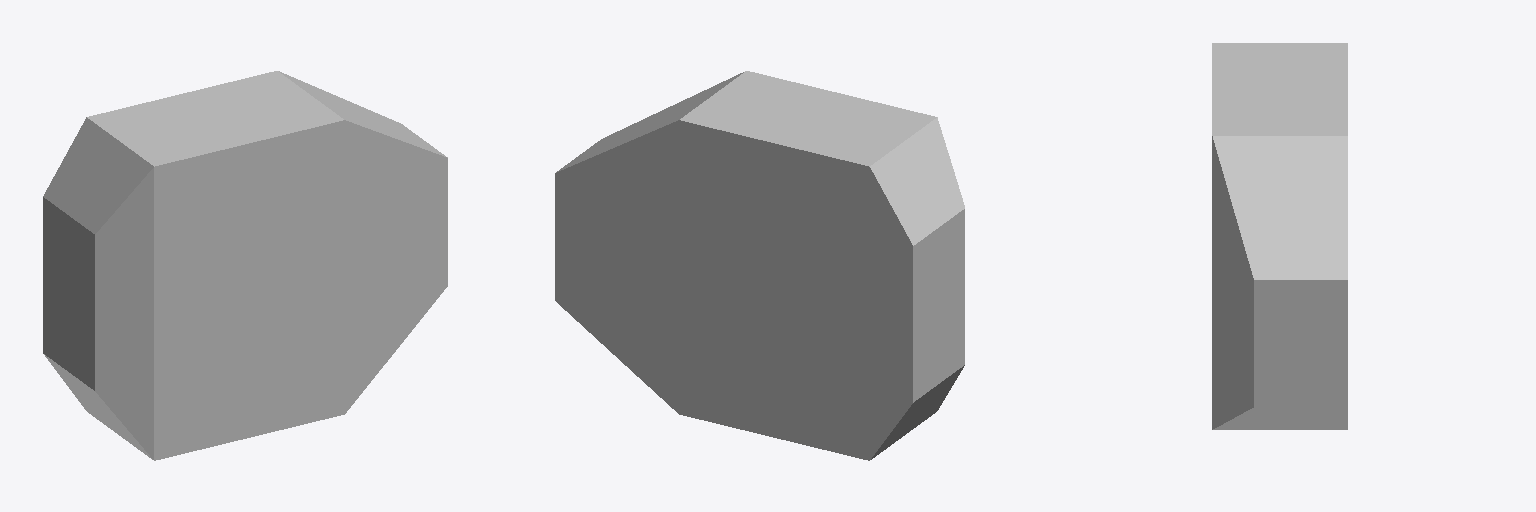
File: turret.obj
3 renders of one model, left to right at view 1: azimuth 30°, elevation 25°; view 2: azimuth 150°, elevation 25°; view 3: azimuth 270°, elevation 25°, orthographic.
Visible parts, largest first — view 1: cube5; view 2: cube5; view 3: cube5.
Boxes of the visible parts, box(x1,y1,x2,y2) form: cube5: box(43, 71, 447, 460); cube5: box(555, 71, 964, 460); cube5: box(1212, 43, 1347, 429).
Bounding box in the file's own units: 0.4586 × 0.36 × 0.15.